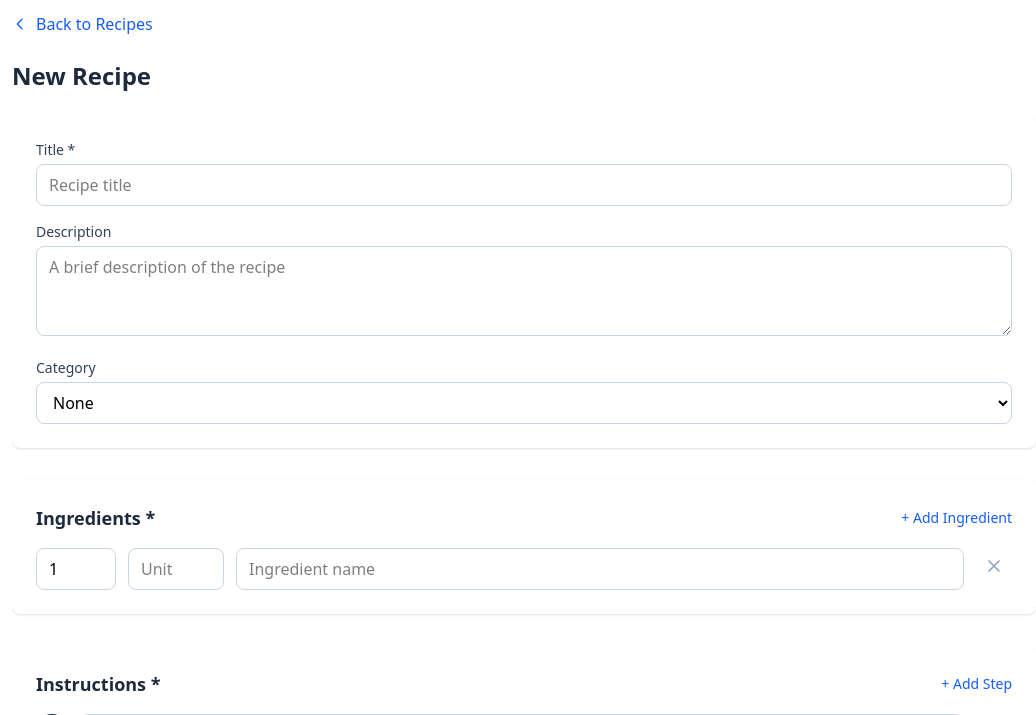
Scenario: RecipeForm › Create mode › allows adding ingredients
Click the button "+ Add Ingredient": click(957, 518) [901,508,1012,528]
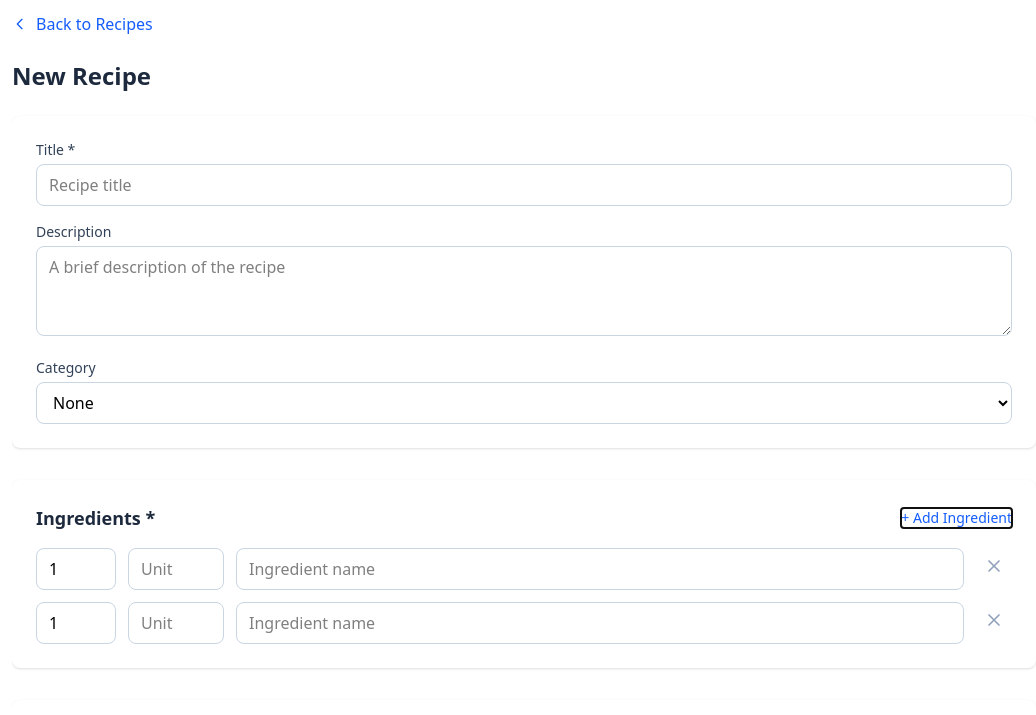
Expected: the number of fields with placeholder "Ingredient name" is 2, [236,548,964,590]; [236,602,964,644]
